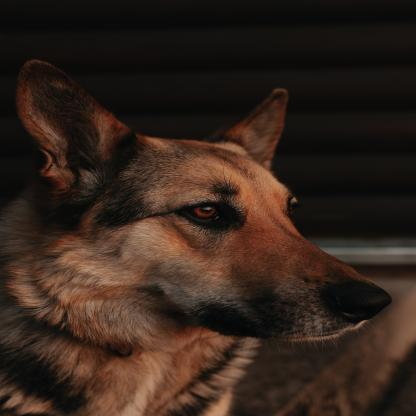dog: (2, 57, 394, 416)
